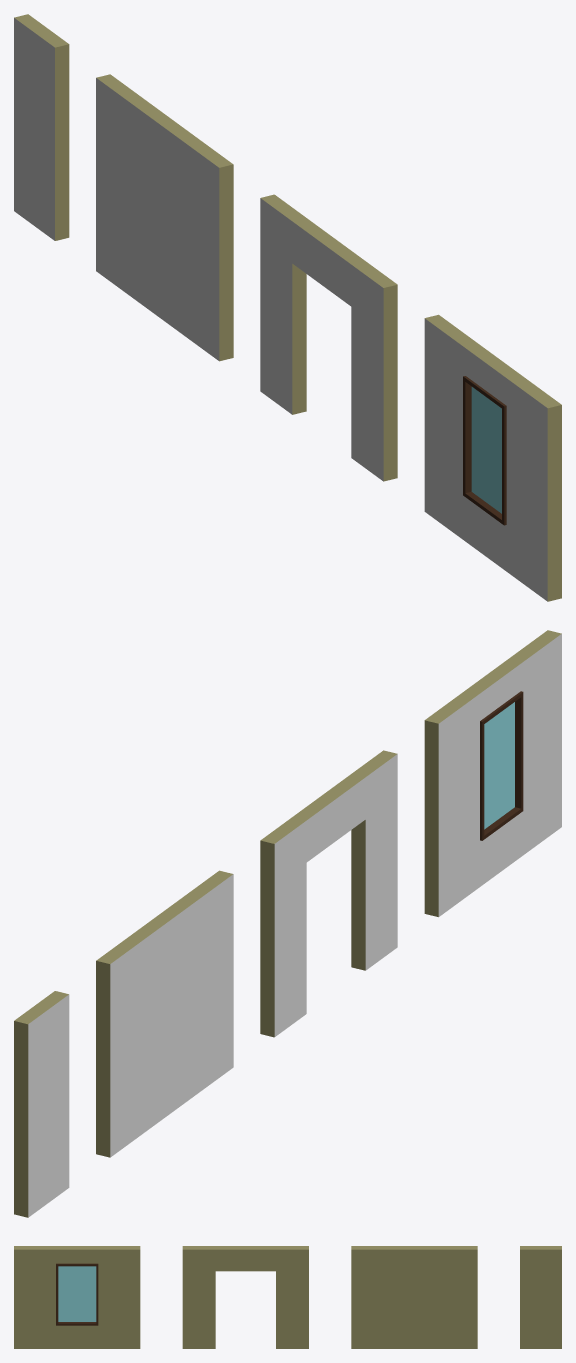
The model's file is ModularHouse2.fbx.
3 views of the same model, one above another, from view 1: azimuth 30°, elevation 25°; view 2: azimuth 150°, elevation 25°; view 3: azimuth 270°, elevation 25° (orthographic). The views are drawn at different scales.
Parts seen in each view (by area): view 1: Cube.002, Cube, Cube.001, Cube.003, Window; view 2: Cube.002, Cube, Cube.001, Cube.003, Window; view 3: Cube.002, Cube, Cube.001, Cube.003, Window.
Part boxes in pixels (box(x1,y1,x2,y2)): Cube.002: box(96, 74, 233, 361); Cube: box(424, 314, 561, 601); Cube.001: box(260, 194, 397, 481); Cube.003: box(14, 14, 69, 240); Window: box(463, 376, 506, 525); Cube.002: box(96, 870, 233, 1157); Cube: box(424, 630, 561, 917); Cube.001: box(260, 750, 397, 1037); Cube.003: box(14, 991, 69, 1217); Window: box(480, 691, 523, 840); Cube.002: box(351, 1246, 477, 1348); Cube: box(14, 1246, 140, 1348); Cube.001: box(182, 1246, 308, 1348); Cube.003: box(520, 1246, 561, 1348); Window: box(56, 1263, 98, 1325).
Bounding box in the file's own units: 0.5407 × 26 × 5.2.
